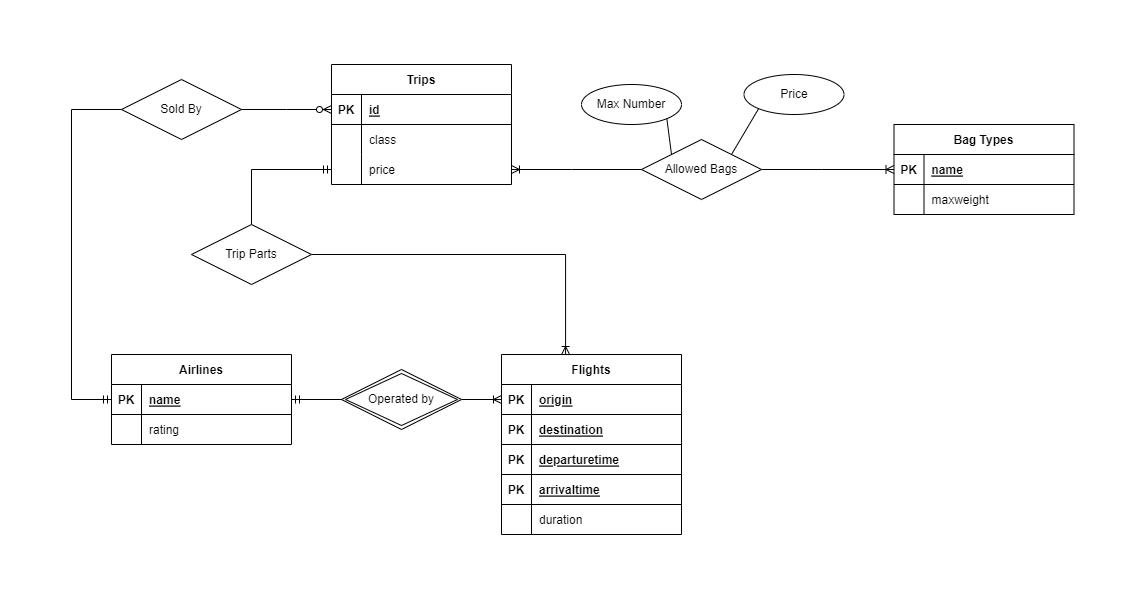attribute: (742, 74, 845, 116), (580, 86, 681, 125)
entity: (499, 353, 684, 536), (329, 62, 513, 186), (107, 352, 292, 447), (892, 121, 1075, 216)
relationship: (119, 78, 240, 139), (193, 225, 312, 287), (642, 139, 762, 199)
weakrelationship: (343, 367, 462, 432)
